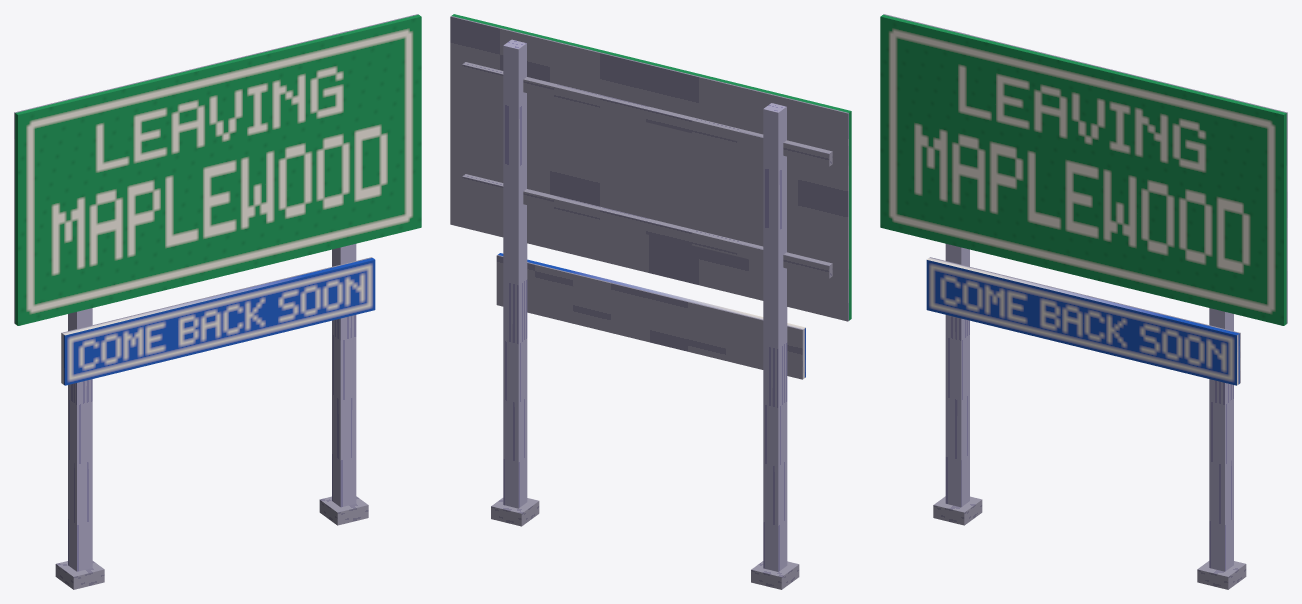
Rendered from Town Line Sign.fbx.
3 renders of one model, left to right at view 1: azimuth 30°, elevation 25°; view 2: azimuth 150°, elevation 25°; view 3: azimuth 330°, elevation 25°, orthographic.
Parts seen in each view (by area): view 1: Town Line Sign board, Town Line Sign small board, Town Line Sign post -1, Town Line Sign post 1, Town Line Sign board back, Town Line Sign post foot -1, Town Line Sign post foot 1, Town Line Sign small board back; view 2: Town Line Sign board back, Town Line Sign small board back, Town Line Sign post 1, Town Line Sign post -1, Town Line Sign rail 2.70, Town Line Sign rail 2.00, Town Line Sign board, Town Line Sign small board, Town Line Sign post foot -1, Town Line Sign post foot 1; view 3: Town Line Sign board, Town Line Sign small board, Town Line Sign post 1, Town Line Sign post -1, Town Line Sign board back, Town Line Sign post foot 1, Town Line Sign post foot -1, Town Line Sign small board back.
Part boxes in pixels (left/top/right/bottom): Town Line Sign board: left=15, top=14, right=421, bottom=325; Town Line Sign small board: left=62, top=258, right=375, bottom=385; Town Line Sign post -1: left=68, top=95, right=92, bottom=571; Town Line Sign post 1: left=332, top=31, right=356, bottom=507; Town Line Sign board back: left=14, top=14, right=418, bottom=323; Town Line Sign post foot -1: left=55, top=561, right=104, bottom=589; Town Line Sign post foot 1: left=319, top=496, right=368, bottom=525; Town Line Sign small board back: left=61, top=257, right=372, bottom=383; Town Line Sign board back: left=450, top=16, right=848, bottom=321; Town Line Sign small board back: left=496, top=255, right=803, bottom=379; Town Line Sign post 1: left=503, top=39, right=527, bottom=508; Town Line Sign post -1: left=763, top=103, right=787, bottom=571; Town Line Sign rail 2.70: left=462, top=62, right=832, bottom=166; Town Line Sign rail 2.00: left=462, top=174, right=832, bottom=278; Town Line Sign board: left=451, top=14, right=851, bottom=320; Town Line Sign small board: left=498, top=253, right=805, bottom=378; Town Line Sign post foot -1: left=751, top=561, right=799, bottom=589; Town Line Sign post foot 1: left=491, top=498, right=539, bottom=526; Town Line Sign board: left=880, top=14, right=1286, bottom=325; Town Line Sign small board: left=926, top=258, right=1239, bottom=385; Town Line Sign post 1: left=1209, top=95, right=1233, bottom=571; Town Line Sign post -1: left=945, top=31, right=969, bottom=507; Town Line Sign board back: left=883, top=14, right=1287, bottom=323; Town Line Sign post foot 1: left=1197, top=561, right=1246, bottom=589; Town Line Sign post foot -1: left=933, top=496, right=982, bottom=525; Town Line Sign small board back: left=929, top=257, right=1240, bottom=383.
Size of the model in its own units: 2.6 by 3 by 0.2.
Materials: 4 (4 with a texture image).
